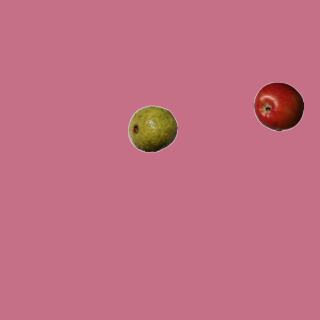Apple Braeburn: (253, 81, 303, 131)
Guava: (127, 103, 177, 153)
